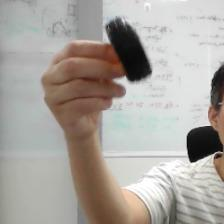wheel: (104, 13, 155, 86)
